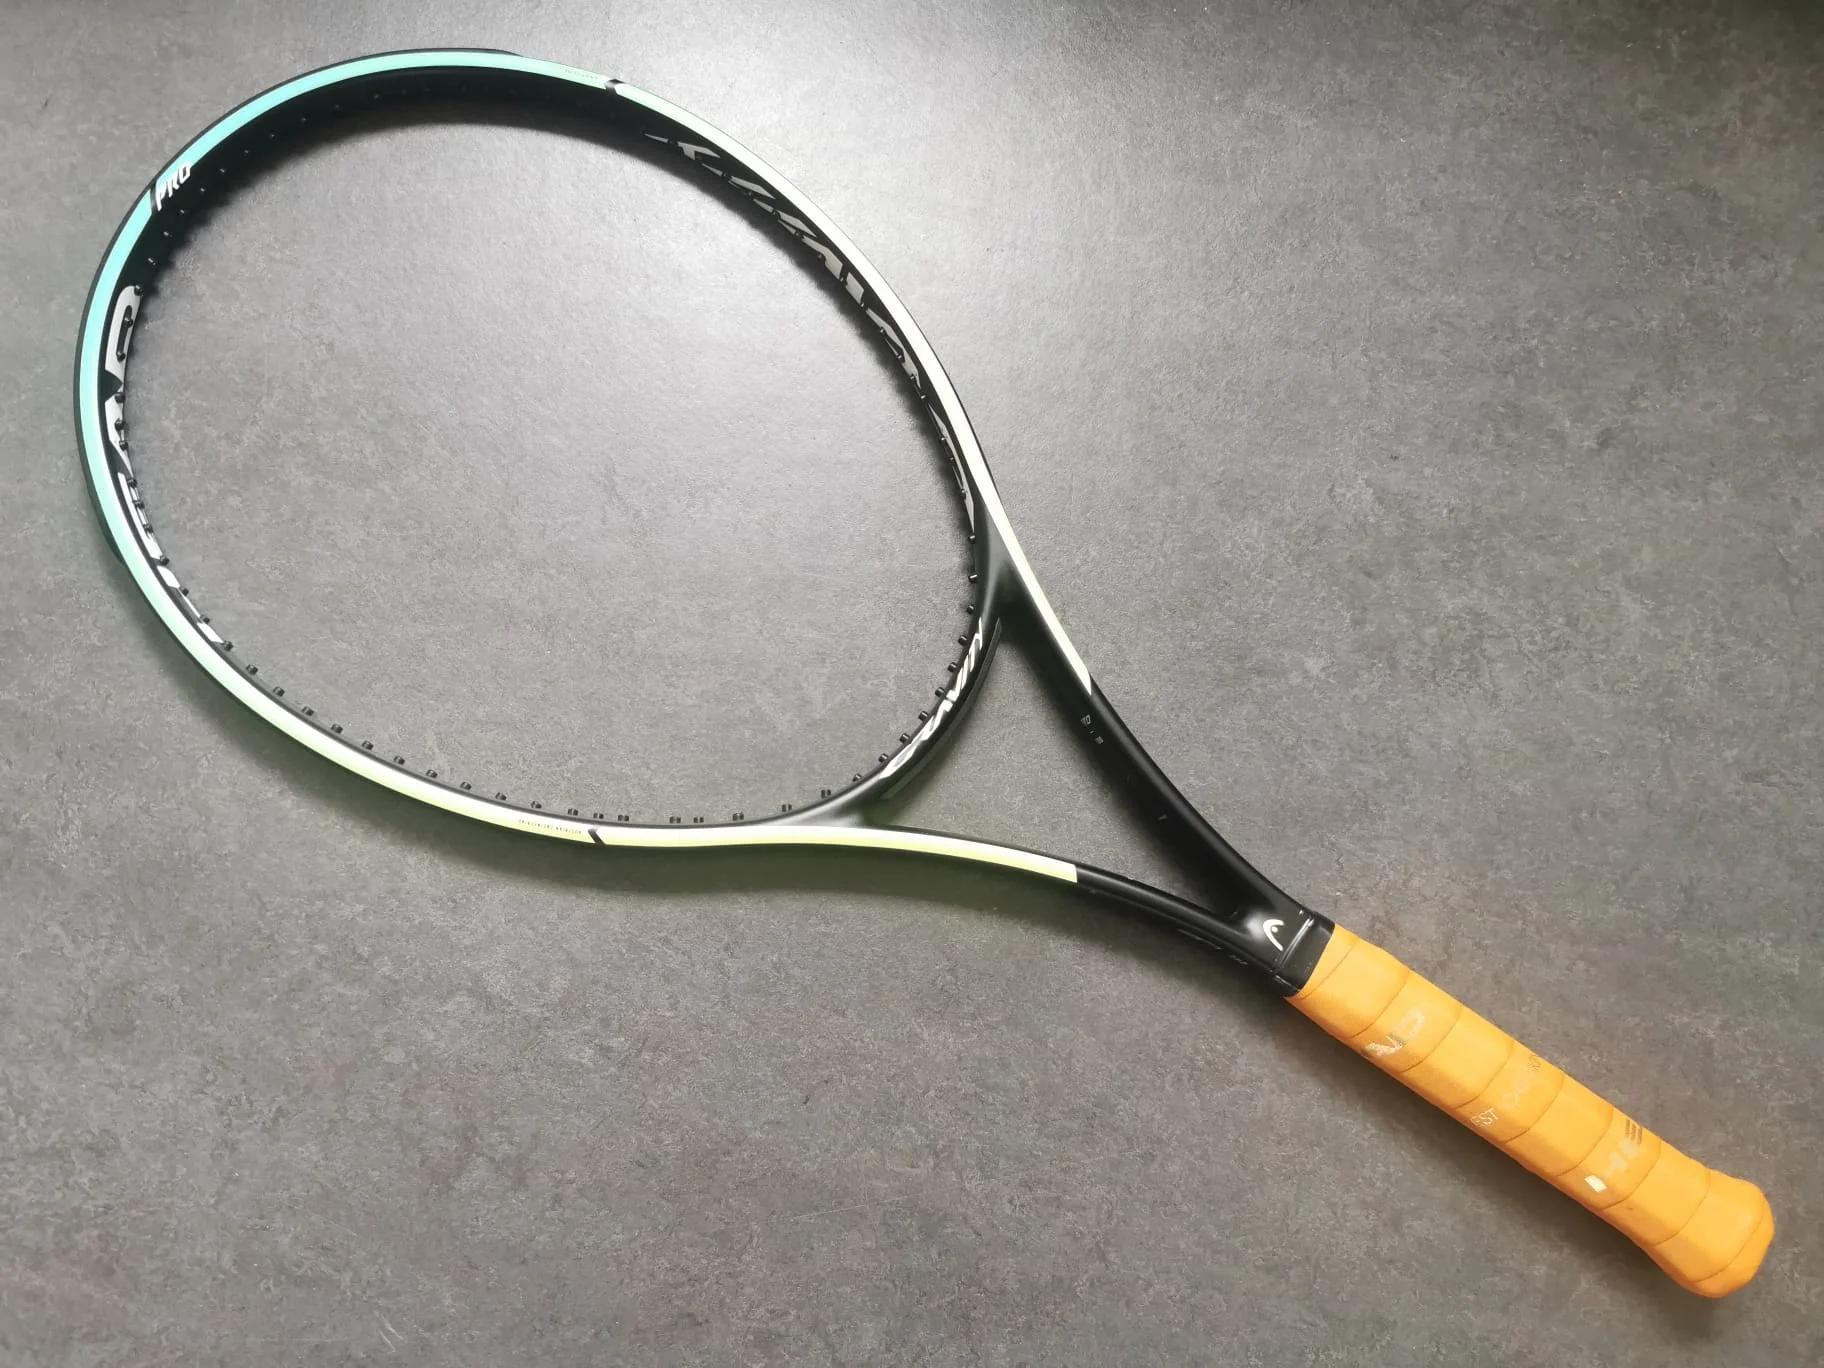Tennis-Racket: (79, 50, 1775, 1298)
